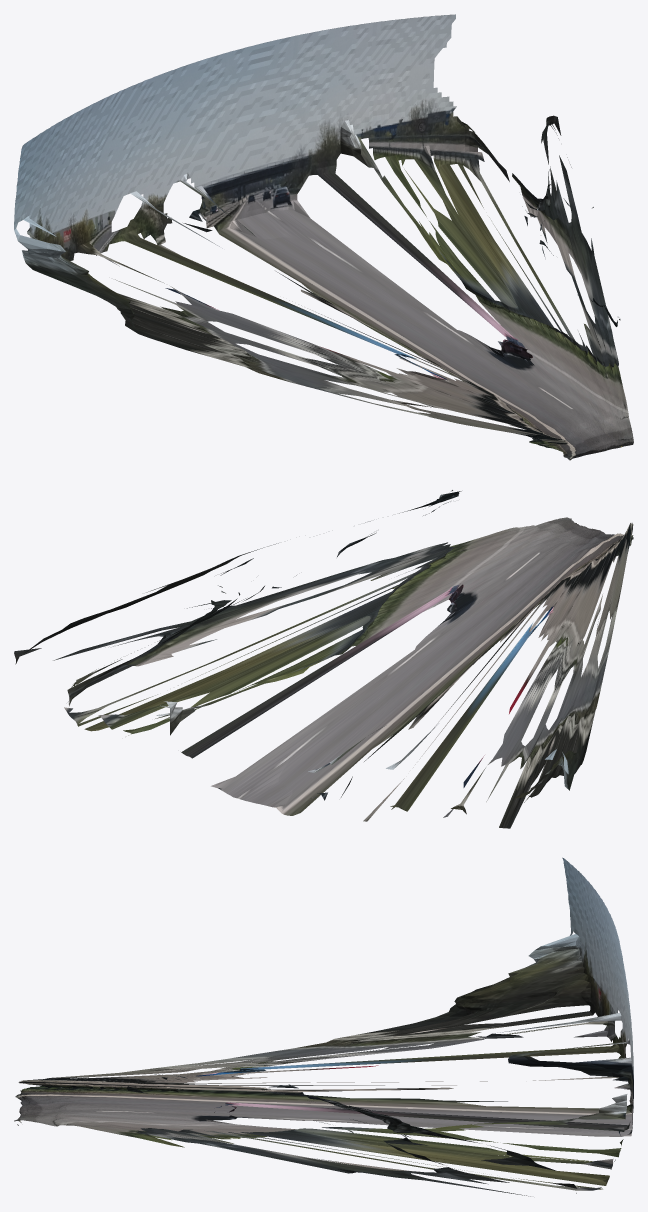
3 views of the same model, one above another, from view 1: azimuth 30°, elevation 25°; view 2: azimuth 150°, elevation 25°; view 3: azimuth 270°, elevation 25° (orthographic). The views are drawn at different scales.
Parts seen in each view (by area): view 1: defaultobject; view 2: defaultobject; view 3: defaultobject.
Part boxes in pixels (x1,y1,x2,y2): defaultobject: [14, 14, 633, 460]; defaultobject: [14, 490, 633, 828]; defaultobject: [14, 857, 633, 1196].
Size of the model in its own units: 40.33 by 12.85 by 44.55.
Materials: 1 (1 with a texture image).
